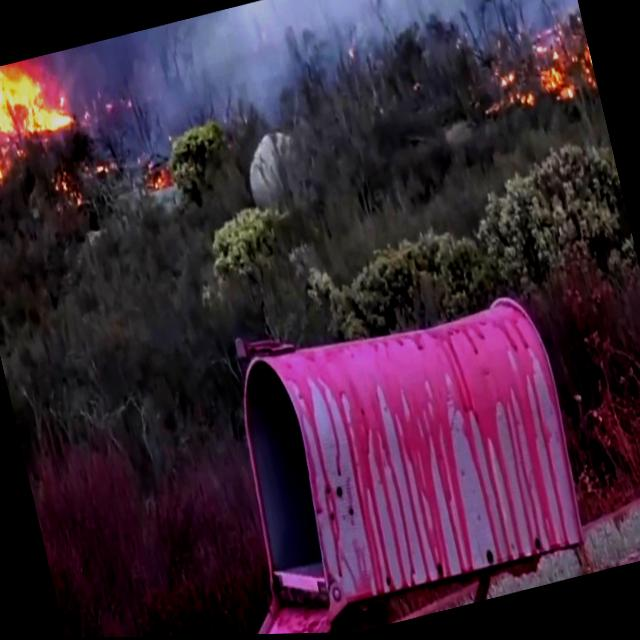fire: (0, 48, 92, 195), (554, 0, 606, 134)
